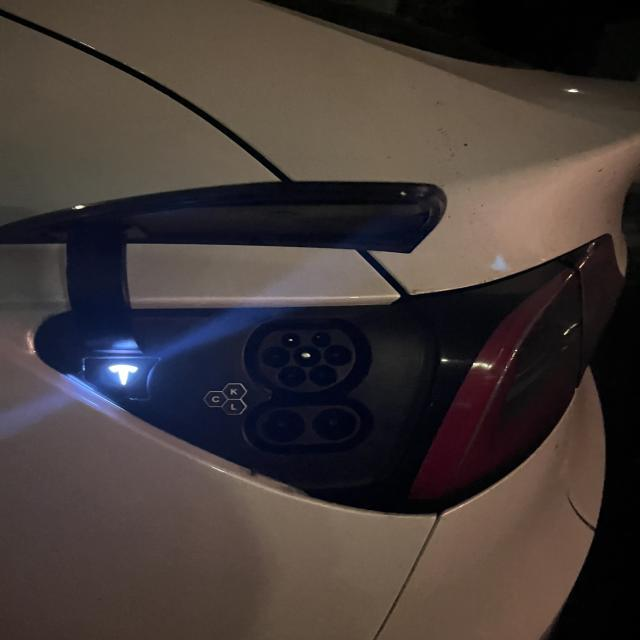inlet: (257, 329, 356, 392)
inlet-above-left: (282, 333, 301, 347)
inlet-above-right: (312, 332, 332, 346)
inlet-below-left: (279, 366, 306, 386)
inlet-below-right: (309, 365, 337, 386)
inlet-center: (293, 345, 321, 367)
inlet-center-left: (263, 346, 290, 367)
inlet-center-right: (324, 344, 351, 366)
